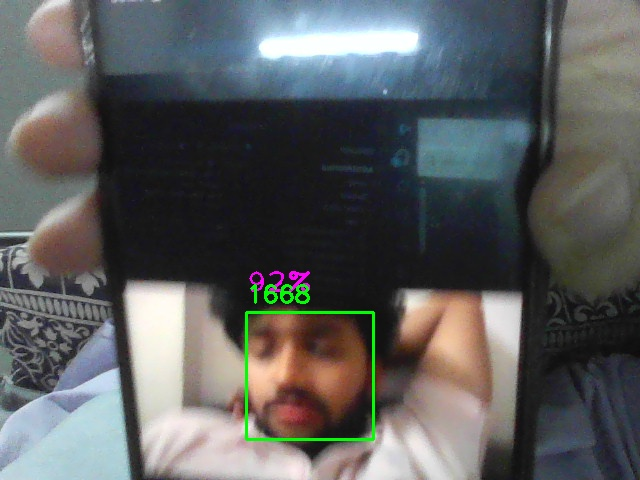fake: (246, 312, 374, 440)
